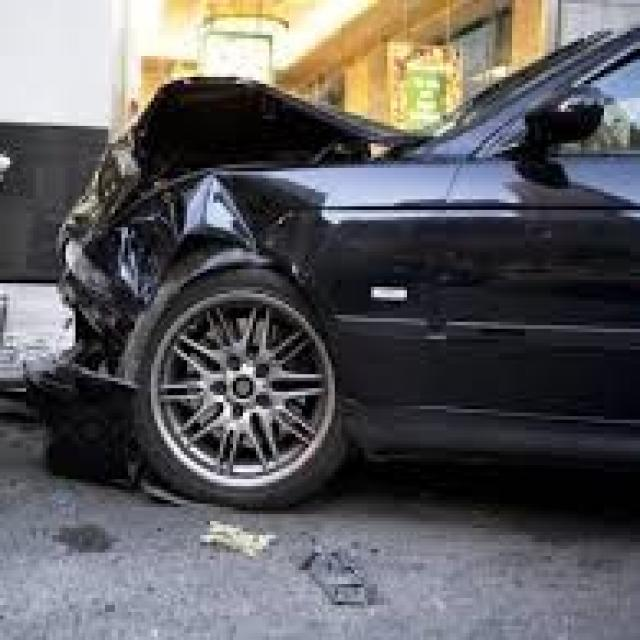severe: (50, 49, 362, 500)
